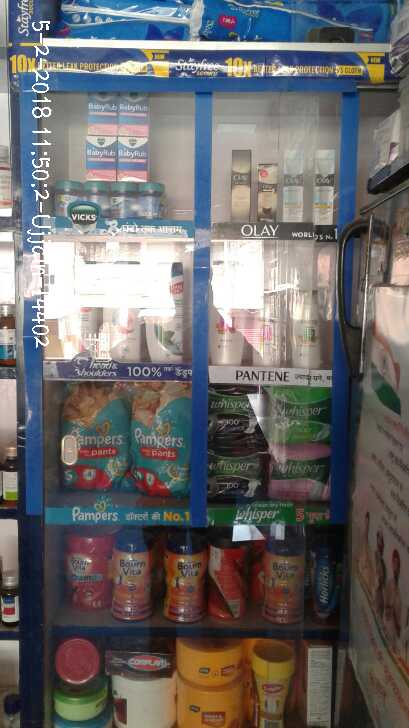beauty: (147, 259, 186, 363), (206, 257, 242, 368), (289, 290, 323, 369), (229, 146, 251, 225), (311, 150, 334, 224), (281, 150, 304, 222), (259, 163, 278, 221)
pharmacy: (55, 379, 127, 494), (123, 378, 185, 500), (203, 381, 266, 443), (268, 442, 329, 503), (272, 388, 334, 446), (210, 443, 262, 504), (117, 89, 155, 137), (75, 88, 118, 130), (117, 134, 148, 182), (108, 175, 138, 219), (84, 134, 113, 176), (139, 178, 165, 222), (53, 178, 80, 219), (84, 180, 107, 218)
